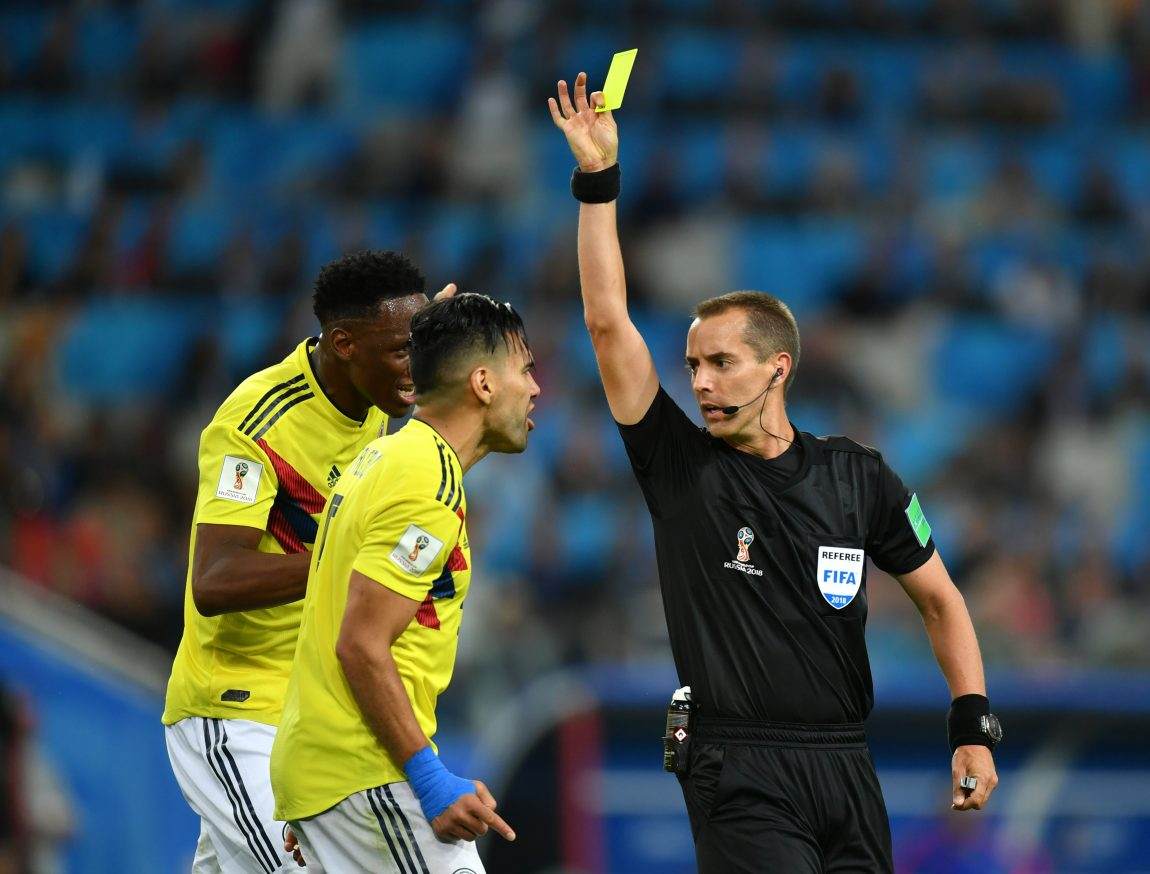yellow_card: (536, 32, 646, 184)
